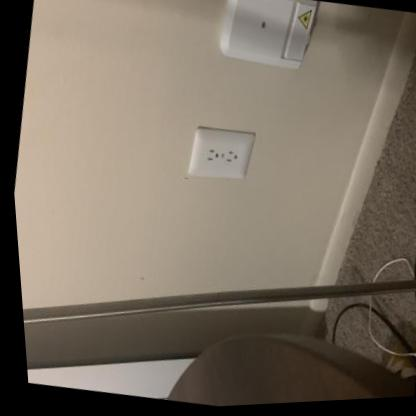OUTLET: (183, 119, 258, 186)
